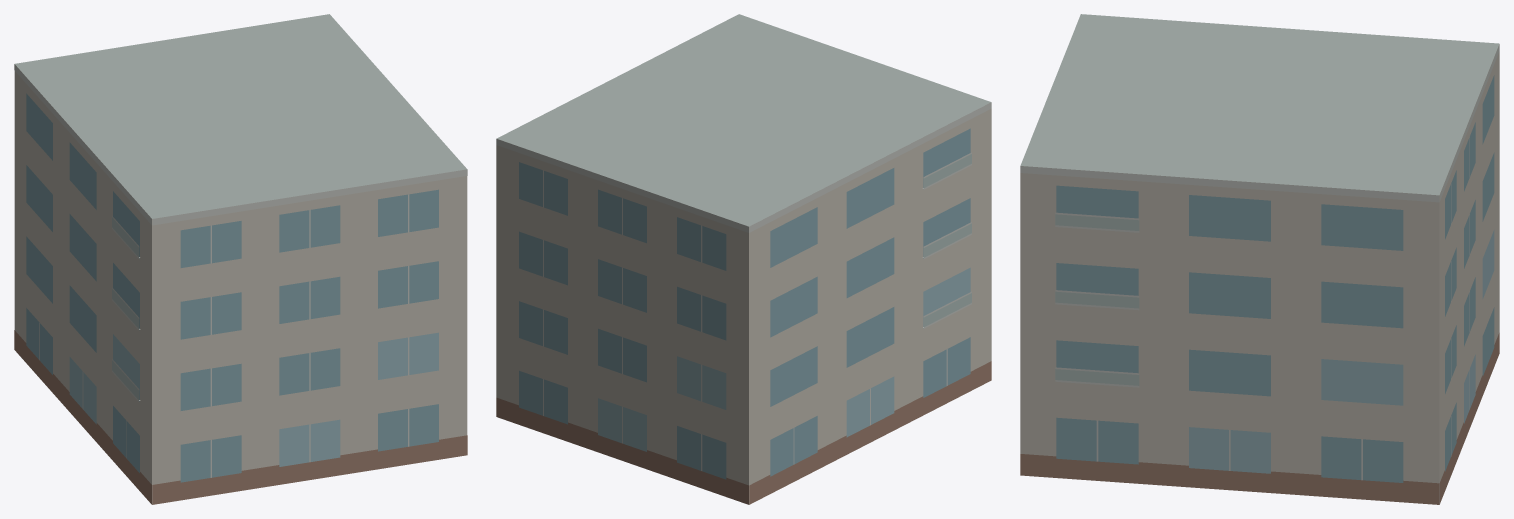
Rendered from survey-upis-32979812.glb.
3 renders of one model, left to right at view 1: azimuth 30°, elevation 25°; view 2: azimuth 150°, elevation 25°; view 3: azimuth 270°, elevation 25°, orthographic. The views are drawn at different scales.
Visible parts, largest first — view 1: survey-upis-32979812.tmp; view 2: survey-upis-32979812.tmp; view 3: survey-upis-32979812.tmp.
Part boxes in pixels (<box>): survey-upis-32979812.tmp: <box>14,14,467,504</box>; survey-upis-32979812.tmp: <box>496,14,991,504</box>; survey-upis-32979812.tmp: <box>1020,14,1499,504</box>.
Bounding box in the file's own units: 13.45 × 10.7 × 15.03.
